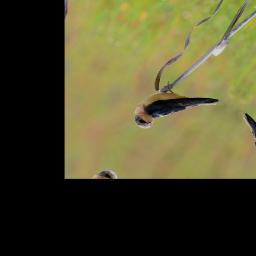Swallow: (125, 68, 228, 156)
